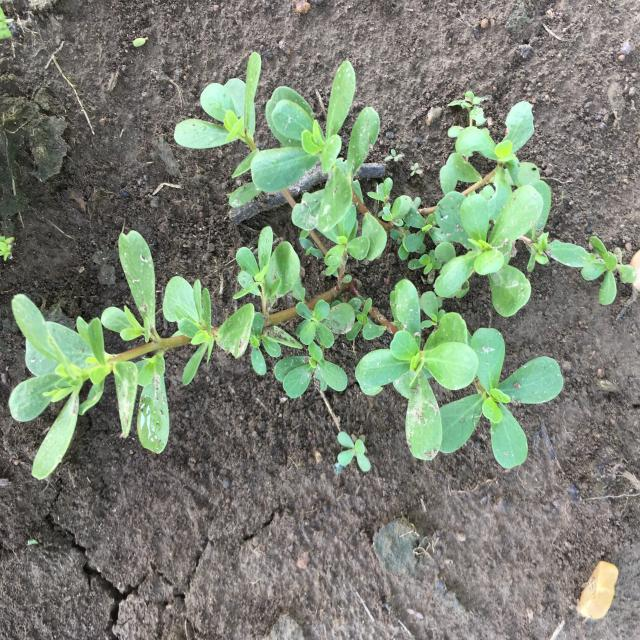Purslane: (9, 52, 636, 479), (338, 432, 371, 472)
